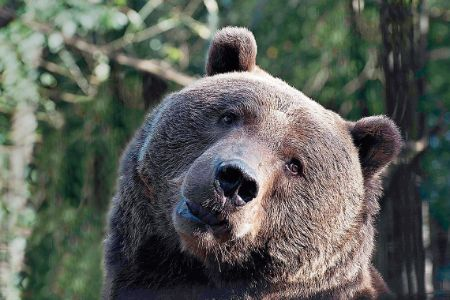bear: (96, 23, 408, 296)
